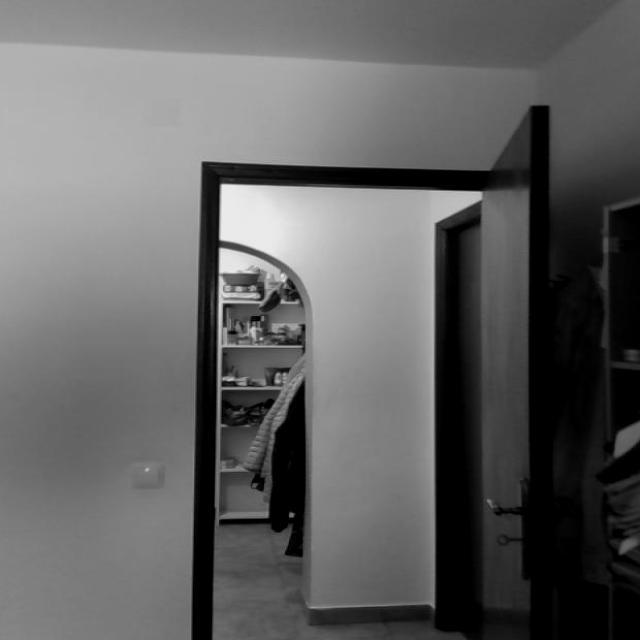door: (454, 99, 560, 636)
